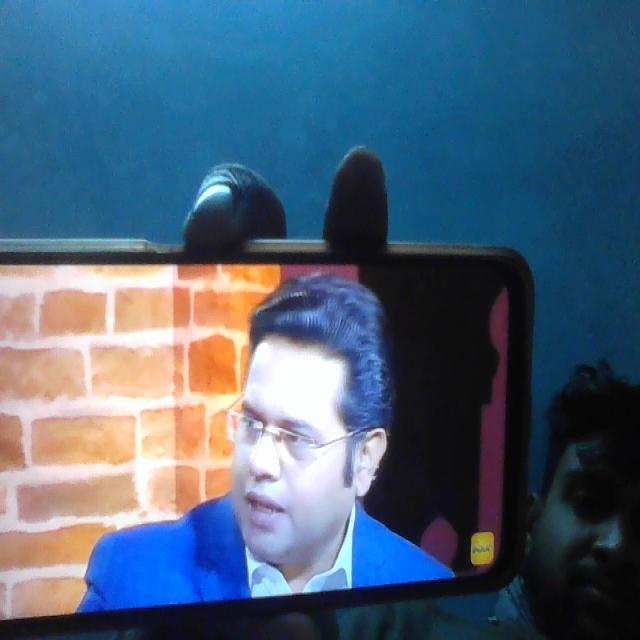fake: (218, 288, 370, 575)
